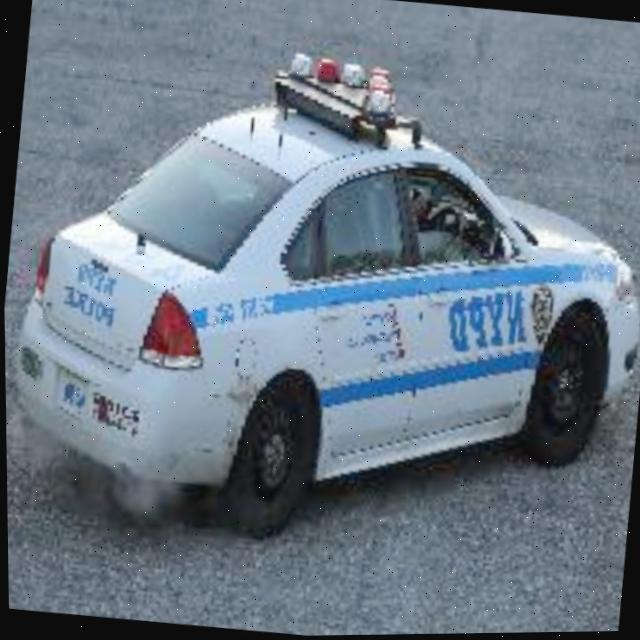emergency: (1, 50, 640, 562)
